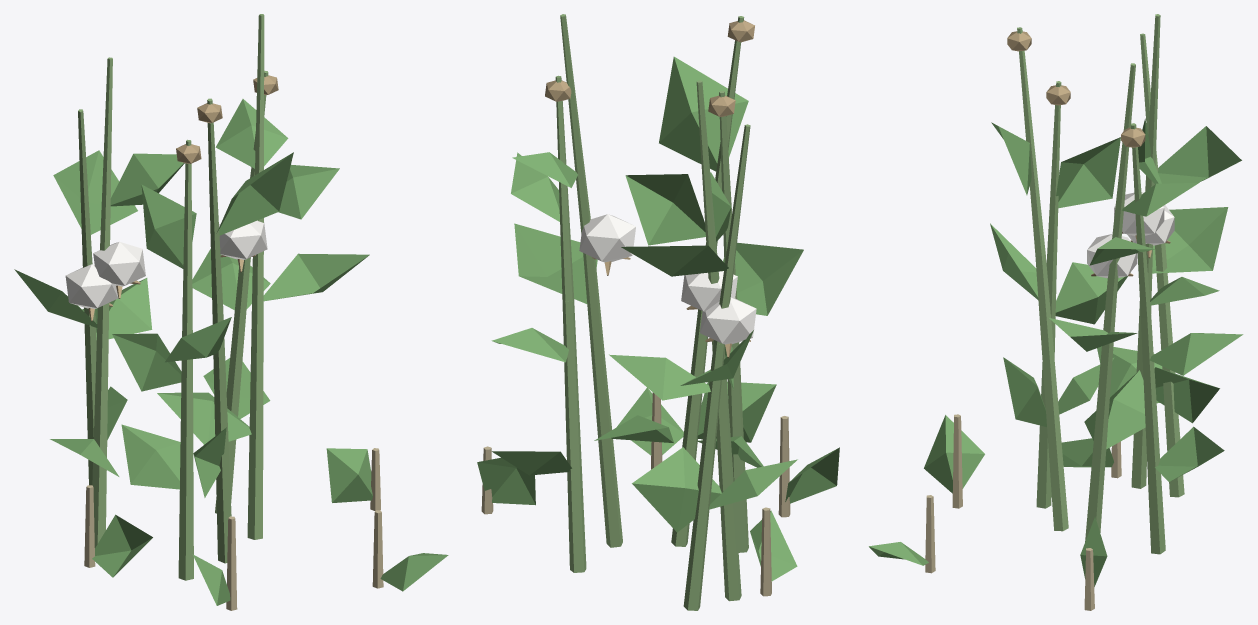
Rendered from plant-cotton-a_lod1.glb.
3 renders of one model, left to right at view 1: azimuth 30°, elevation 25°; view 2: azimuth 150°, elevation 25°; view 3: azimuth 270°, elevation 25°, orthographic. The views are drawn at different scales.
Parts seen in each view (by area): view 1: plant-cotton-a_full_leafA, plant-cotton-a_full_stemGreen, plant-cotton-a_low_leafA, plant-cotton-a_fruit_cottonWhite, plant-cotton-a_low_stemDry, plant-cotton-a_fruit_cottonBract; view 2: plant-cotton-a_full_leafA, plant-cotton-a_full_stemGreen, plant-cotton-a_low_leafA, plant-cotton-a_fruit_cottonWhite, plant-cotton-a_low_stemDry, plant-cotton-a_fruit_cottonBract; view 3: plant-cotton-a_full_leafA, plant-cotton-a_full_stemGreen, plant-cotton-a_low_leafA, plant-cotton-a_low_stemDry, plant-cotton-a_fruit_cottonWhite, plant-cotton-a_fruit_cottonBract.
Part boxes in pixels (x1=…): plant-cotton-a_full_leafA: x1=14, y1=99, x2=369, y2=497; plant-cotton-a_full_stemGreen: x1=78, y1=14, x2=268, y2=580; plant-cotton-a_low_leafA: x1=92, y1=448, x2=448, y2=605; plant-cotton-a_fruit_cottonWhite: x1=65, y1=220, x2=267, y2=308; plant-cotton-a_low_stemDry: x1=84, y1=448, x2=383, y2=610; plant-cotton-a_fruit_cottonBract: x1=88, y1=75, x2=278, y2=321; plant-cotton-a_full_leafA: x1=491, y1=56, x2=803, y2=532; plant-cotton-a_full_stemGreen: x1=555, y1=14, x2=750, y2=610; plant-cotton-a_low_leafA: x1=477, y1=387, x2=839, y2=581; plant-cotton-a_fruit_cottonWhite: x1=579, y1=214, x2=756, y2=344; plant-cotton-a_low_stemDry: x1=481, y1=392, x2=790, y2=596; plant-cotton-a_fruit_cottonBract: x1=545, y1=20, x2=754, y2=357; plant-cotton-a_full_leafA: x1=990, y1=118, x2=1243, y2=481; plant-cotton-a_full_stemGreen: x1=1017, y1=14, x2=1184, y2=554; plant-cotton-a_low_leafA: x1=869, y1=415, x2=1113, y2=586; plant-cotton-a_low_stemDry: x1=925, y1=414, x2=1121, y2=610; plant-cotton-a_fruit_cottonWhite: x1=1087, y1=192, x2=1174, y2=278; plant-cotton-a_fruit_cottonBract: x1=1007, y1=31, x2=1170, y2=276.
Size of the model in its own units: 0.716 by 1.16 by 0.7851.
